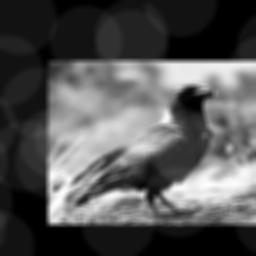Crow: (66, 82, 222, 223)
